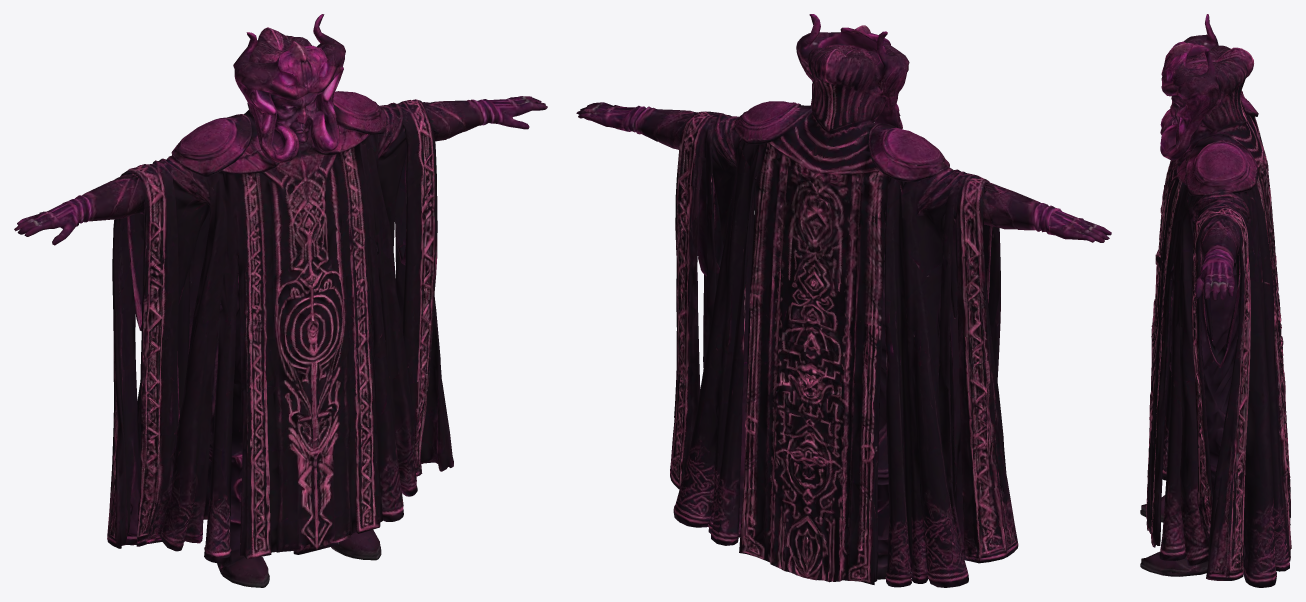
The model's file is vertex.glb.
3 renders of one model, left to right at view 1: azimuth 30°, elevation 25°; view 2: azimuth 150°, elevation 25°; view 3: azimuth 270°, elevation 25°, orthographic. The views are drawn at different scales.
Size of the model in its own units: 1.9 by 1.81 by 0.4877.
1 material, 1 textured.
